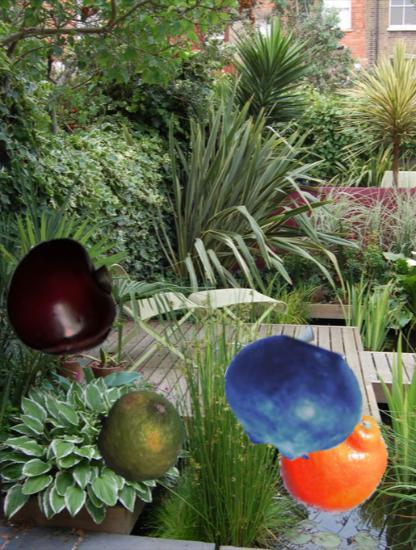Cherry: (1, 239, 122, 360)
Huckleberry: (220, 327, 365, 472)
Limes: (92, 388, 186, 482)
Tangelo: (276, 401, 392, 517)
